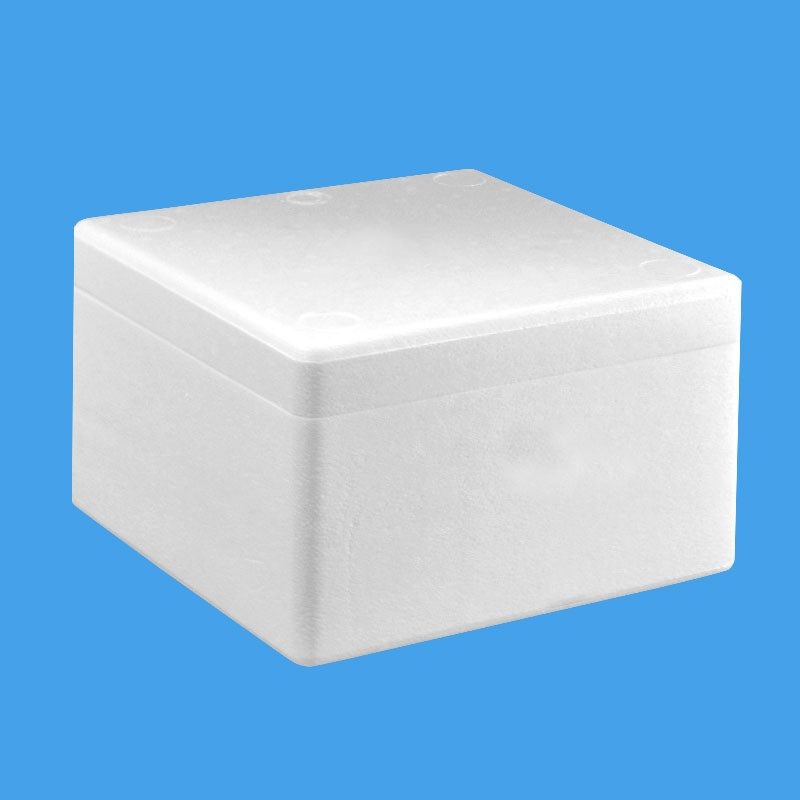泡沫箱: (72, 170, 740, 665)
